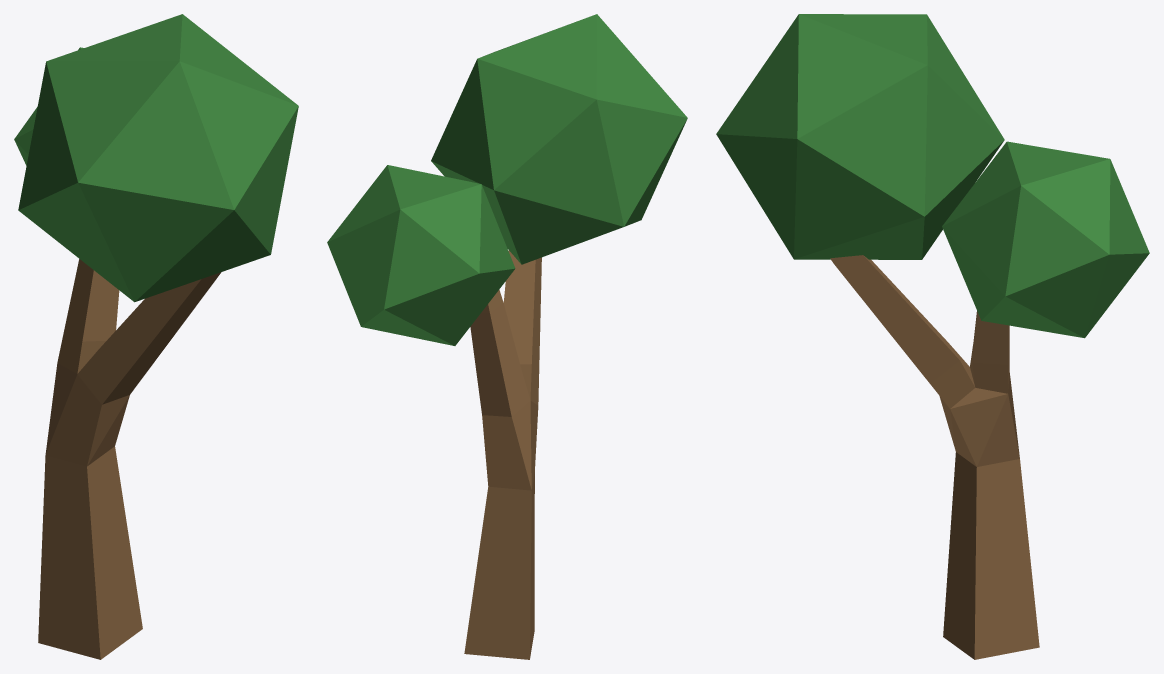
File: tree03.glb
The picture shows the model from 3 angles, left to right: view 1: azimuth 30°, elevation 25°; view 2: azimuth 150°, elevation 25°; view 3: azimuth 270°, elevation 25°; orthographic projection. The views are drawn at different scales.
Visible parts, largest first — view 1: Icosphere.001, Cube, Icosphere; view 2: Icosphere.001, Icosphere, Cube; view 3: Icosphere.001, Cube, Icosphere.
Boxes of the visible parts, x1=… form: Icosphere.001: x1=18, y1=14, x2=298, y2=302; Cube: x1=38, y1=259, x2=221, y2=659; Icosphere: x1=14, y1=47, x2=83, y2=165; Icosphere.001: x1=431, y1=14, x2=687, y2=264; Icosphere: x1=327, y1=165, x2=515, y2=345; Cube: x1=464, y1=250, x2=541, y2=659; Icosphere.001: x1=716, y1=14, x2=1004, y2=259; Cube: x1=830, y1=255, x2=1039, y2=659; Icosphere: x1=942, y1=141, x2=1149, y2=338.
Size of the model in its own units: 5.56 by 13.18 by 8.28.
